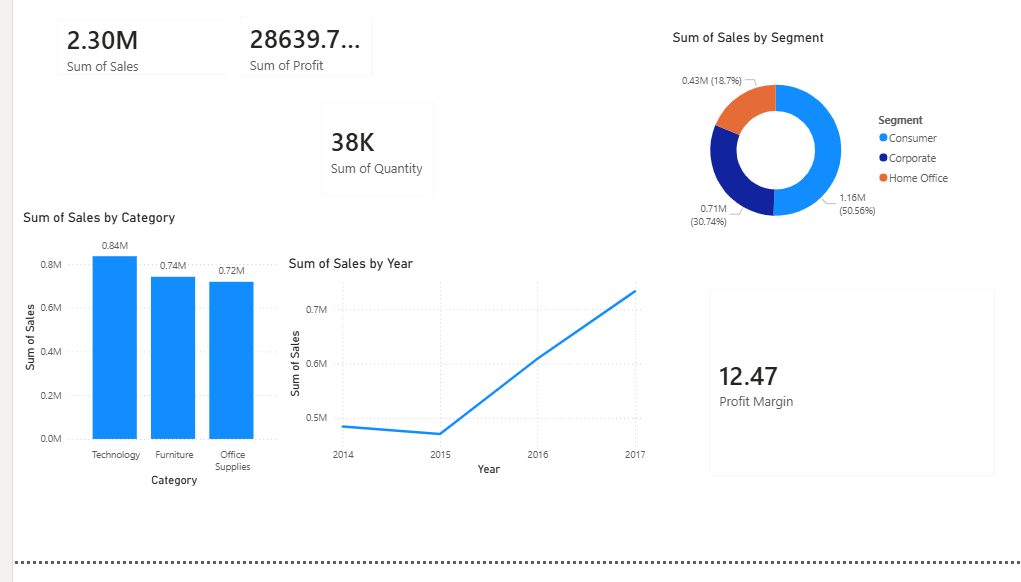

What the dashboard file says about the page in this screenshot:
{"tool":"powerbi","page":{"name":"Revenue Analytics Dashboard","canvas":[1280,720],"ordinal":0},"visuals":[{"type":"columnChart","fields":{"Y":["Sum(Sample - Superstore.Sales)"],"Category":["Sample - Superstore.Category"]},"box":[7.6,275.9,332.6,353.4],"z":0},{"type":"cardVisual","fields":{"Data":["Sum(Sample - Superstore.Sales)"]},"box":[37.8,18.9,304.3,105.8],"z":1000},{"type":"cardVisual","fields":{"Data":["Sum(Sample - Superstore.Profit)"]},"box":[268.3,15.1,202.2,111.5],"z":2000},{"type":"lineChart","fields":{"Y":["Sum(Sample - Superstore.Sales)"],"Category":["Sample - Superstore.Order Date.Variation.Date Hierarchy.Year","Sample - Superstore.Order Date.Variation.Date Hierarchy.Quarter","Sample - Superstore.Order Date.Variation.Date Hierarchy.Month","Sample - Superstore.Order Date.Variation.Date Hierarchy.Day"]},"box":[342,334.5,459.2,281.6],"z":3000},{"type":"cardVisual","fields":{"Data":["Sample - Superstore.Profit Margin"]},"box":[859.8,359.1,395,270.2],"z":4000},{"type":"cardVisual","fields":{"Data":["Sum(Sample - Superstore.Quantity)"]},"box":[370.4,124.7,177.6,151.2],"z":5000},{"type":"donutChart","fields":{"Category":["Sample - Superstore.Segment"],"Y":["Sum(Sample - Superstore.Sales)"]},"box":[825.8,49.1,366.6,285.4],"z":6000}]}

Visuals, with their boxes in screenshot pixels (x1, y1, x2, y2), scaled from the page's 1280x720 canvas onto the 1021x582 screenshot:
columnChart - Sum(Sample - Superstore.Sales) x Sample - Superstore.Category: select_region(6, 223, 271, 509)
cardVisual - Sum(Sample - Superstore.Sales): select_region(30, 15, 273, 101)
cardVisual - Sum(Sample - Superstore.Profit): select_region(214, 12, 375, 102)
lineChart - Sum(Sample - Superstore.Sales) x Sample - Superstore.Order Date.Variation.Date Hierarchy.Year: select_region(273, 270, 639, 498)
cardVisual - Sample - Superstore.Profit Margin: select_region(686, 290, 1001, 509)
cardVisual - Sum(Sample - Superstore.Quantity): select_region(295, 101, 437, 223)
donutChart - Sample - Superstore.Segment x Sum(Sample - Superstore.Sales): select_region(659, 40, 951, 270)
